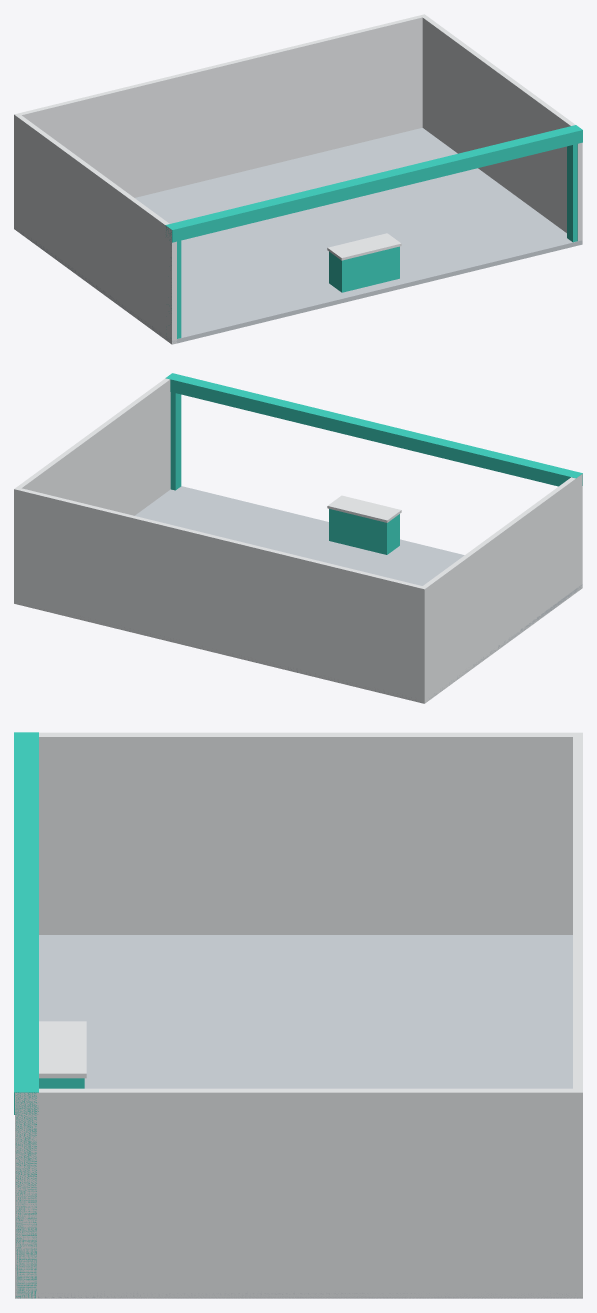
3 views of the same model, one above another, from view 1: azimuth 30°, elevation 25°; view 2: azimuth 150°, elevation 25°; view 3: azimuth 270°, elevation 25° (orthographic). The views are drawn at different scales.
Visible parts, largest first — view 1: Exhibition Booth Concept; view 2: Exhibition Booth Concept; view 3: Exhibition Booth Concept.
Boxes of the visible parts, <box> form: Exhibition Booth Concept: <box>14,14,582,344</box>; Exhibition Booth Concept: <box>14,373,582,703</box>; Exhibition Booth Concept: <box>14,732,582,1298</box>.
Bounding box in the file's own units: 12 × 3.2 × 8.01.
